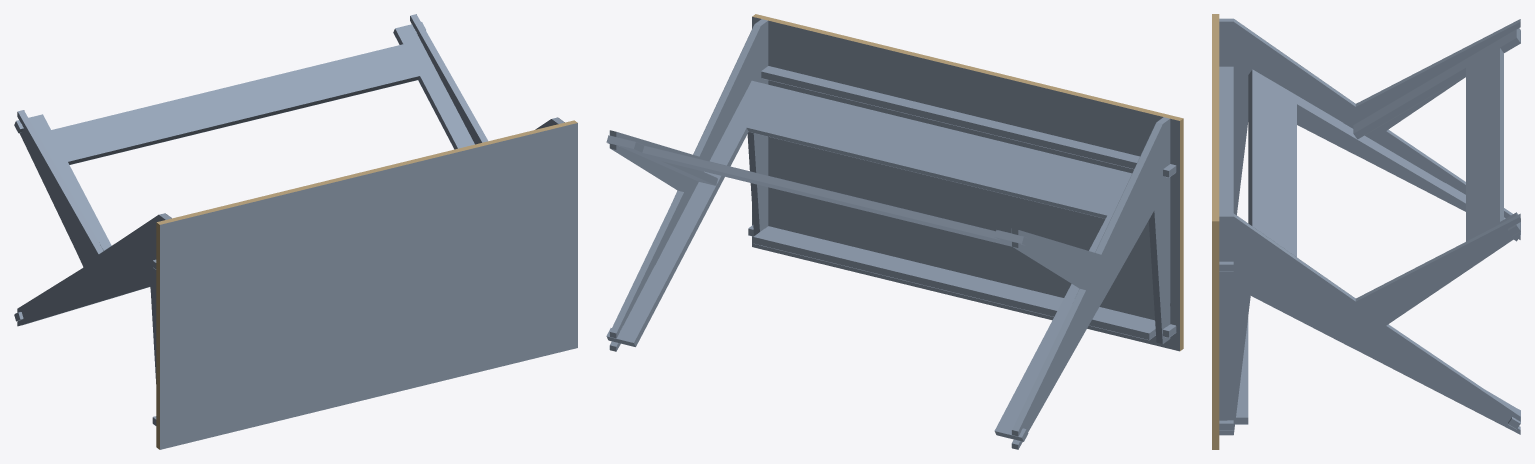
The model's file is NODO_ESCRITORIO_ESCULTORICO_CUARZO_AR_PBR_V7.glb.
3 renders of one model, left to right at view 1: azimuth 30°, elevation 25°; view 2: azimuth 150°, elevation 25°; view 3: azimuth 270°, elevation 25°, orthographic. The views are drawn at different scales.
Visible parts, largest first — view 1: G_Tapa_Superior_CARAS_COLOR_REAL, B_Escuadra_Trasera_PIEL_LISA_1, D_Lateral_Izq_PIEL_LISA_-1, G_Tapa_Superior_CANTO_MDF, B_Escuadra_Trasera_canto, D_Lateral_Izq_cuerpo, D_Lateral_Izq_canto, C_Lateral_Der_canto, C_Lateral_Der_PIEL_LISA_-1; view 2: G_Tapa_Superior_CARAS_COLOR_REAL, A_Escuadra_Delantera_PIEL_LISA_1, D_Lateral_Izq_PIEL_LISA_-1, F_Traba_Delantera_PIEL_LISA_1, A_Escuadra_Delantera_cuerpo, C_Lateral_Der_PIEL_LISA_-1, B_Escuadra_Trasera_canto, D_Lateral_Izq_canto, C_Lateral_Der_canto, E_Traba_Trasera_PIEL_LISA_1, E_Traba_Trasera_canto, F_Traba_Delantera_canto (+5 smaller); view 3: C_Lateral_Der_PIEL_LISA_1, D_Lateral_Izq_PIEL_LISA_1, A_Escuadra_Delantera_PIEL_LISA_1, B_Escuadra_Trasera_PIEL_LISA_1, G_Tapa_Superior_CANTO_MDF, C_Lateral_Der_cuerpo, A_Escuadra_Delantera_canto, E_Traba_Trasera_PIEL_LISA_1, D_Lateral_Izq_cuerpo, B_Escuadra_Trasera_canto, C_Lateral_Der_canto, A_Escuadra_Delantera_cuerpo (+3 smaller).
Part boxes in pixels (x1,y1,x2,y2): G_Tapa_Superior_CARAS_COLOR_REAL: (160,123,577,449); B_Escuadra_Trasera_PIEL_LISA_1: (16,22,474,250); D_Lateral_Izq_PIEL_LISA_-1: (17,112,164,330); G_Tapa_Superior_CANTO_MDF: (156,120,577,449); B_Escuadra_Trasera_canto: (14,29,457,164); D_Lateral_Izq_cuerpo: (17,112,165,383); D_Lateral_Izq_canto: (18,110,171,325); C_Lateral_Der_canto: (410,14,564,142); C_Lateral_Der_PIEL_LISA_-1: (410,16,557,144); G_Tapa_Superior_CARAS_COLOR_REAL: (752,16,1179,351); A_Escuadra_Delantera_PIEL_LISA_1: (606,80,1131,437); D_Lateral_Izq_PIEL_LISA_-1: (1018,119,1170,448); F_Traba_Delantera_PIEL_LISA_1: (749,225,1175,332); A_Escuadra_Delantera_cuerpo: (607,127,1106,437); C_Lateral_Der_PIEL_LISA_-1: (616,21,768,350); B_Escuadra_Trasera_canto: (606,135,1027,245); D_Lateral_Izq_canto: (1012,117,1169,449); C_Lateral_Der_canto: (610,19,767,351); E_Traba_Trasera_PIEL_LISA_1: (761,66,1175,170); E_Traba_Trasera_canto: (761,71,1176,177); F_Traba_Delantera_canto: (748,228,1176,339); C_Lateral_Der_PIEL_LISA_1: (1219,216,1520,435); D_Lateral_Izq_PIEL_LISA_1: (1219,22,1520,239); A_Escuadra_Delantera_PIEL_LISA_1: (1252,69,1520,423); B_Escuadra_Trasera_PIEL_LISA_1: (1353,29,1516,241); G_Tapa_Superior_CANTO_MDF: (1212,14,1219,449); C_Lateral_Der_cuerpo: (1219,217,1520,434); A_Escuadra_Delantera_canto: (1248,70,1520,428); E_Traba_Trasera_PIEL_LISA_1: (1219,66,1233,264); D_Lateral_Izq_cuerpo: (1219,21,1520,239); B_Escuadra_Trasera_canto: (1354,28,1520,235); C_Lateral_Der_canto: (1219,213,1520,429); A_Escuadra_Delantera_cuerpo: (1252,70,1520,423).
Size of what is drawn, in the model's own units: 1.22 by 0.628 by 0.7686.
